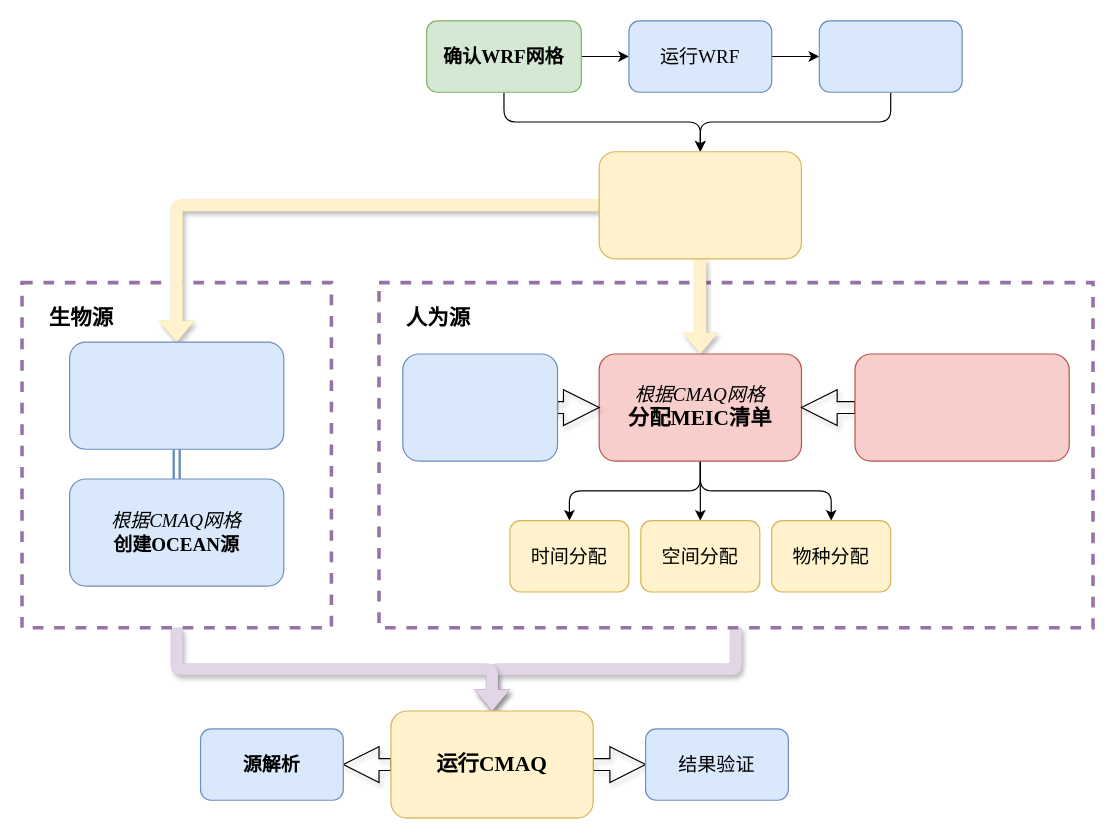
Some shapes in this 1115 by 839 pixel diagram are drawn without their labels. The shapes that lost their labels are listed below. From the top down, each one's centre as x and y in pixels, then its label:
(x=890, y=56): 得到wrfout
(x=699, y=205): 输入MCIP 创建CMAQ网格
(x=176, y=395): 根据CMAQ网格 创建MEGAN生物源
(x=480, y=407): 配合 MIX与EDGAR 清单
(x=961, y=407): 依据经纬度和人口数据 做入本地清单
